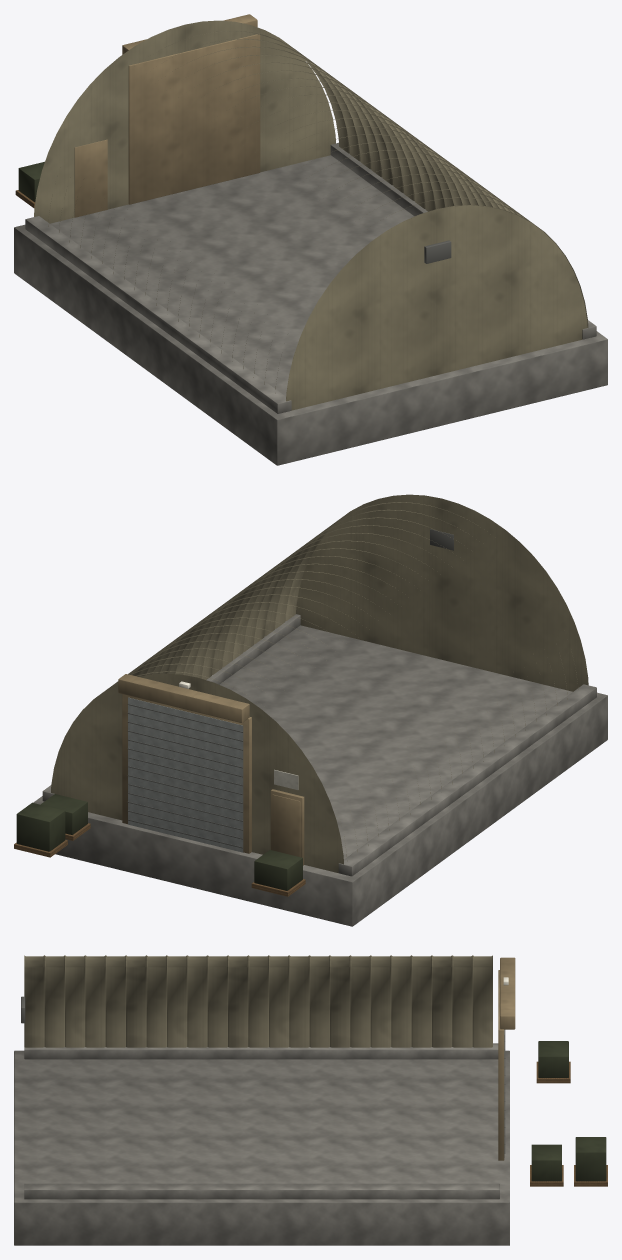
Rendered from supply_storage.glb.
3 views of the same model, one above another, from view 1: azimuth 30°, elevation 25°; view 2: azimuth 150°, elevation 25°; view 3: azimuth 270°, elevation 25° (orthographic). The views are drawn at different scales.
Parts seen in each view (by area): view 1: supply_storage; view 2: supply_storage; view 3: supply_storage.
Part boxes in pixels (<box>): supply_storage: <box>14,14,607,465</box>; supply_storage: <box>14,494,607,926</box>; supply_storage: <box>14,955,607,1245</box>.
Size of the model in its own units: 10.6 by 6.5 by 17.48.
Materials: 10 (8 with a texture image).
